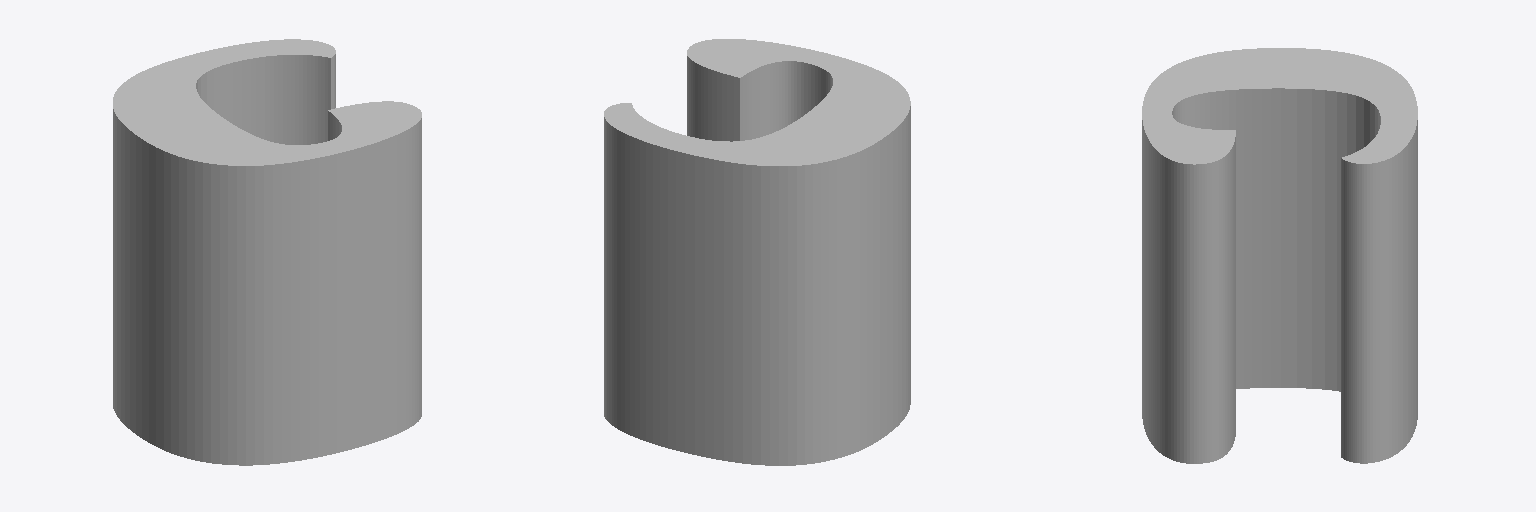
The picture shows the model from 3 angles: view 1: azimuth 30°, elevation 25°; view 2: azimuth 150°, elevation 25°; view 3: azimuth 270°, elevation 25°; orthographic projection.
Visible parts, largest first — view 1: obj_0; view 2: obj_0; view 3: obj_0.
Part boxes in pixels (x1,y1,x2,y2): obj_0: (113, 39, 421, 465); obj_0: (604, 39, 910, 465); obj_0: (1142, 48, 1417, 463).
Size of the model in its own units: 5 by 5.99 by 5.